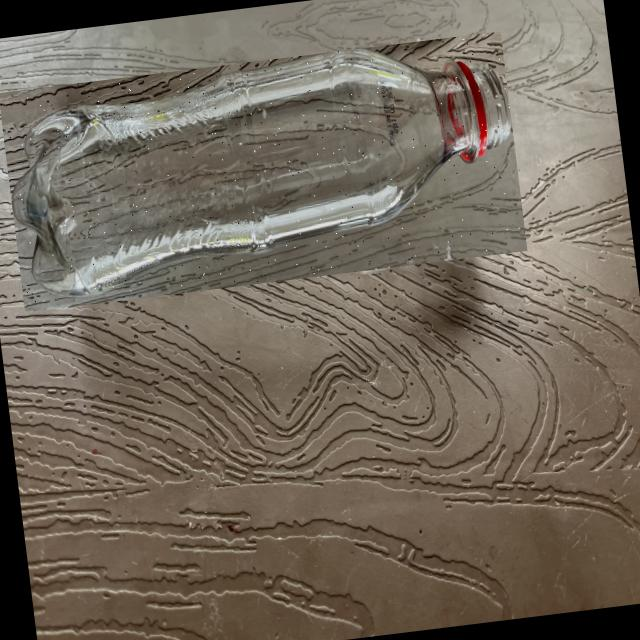PET_With_Cap: (0, 30, 527, 311)
